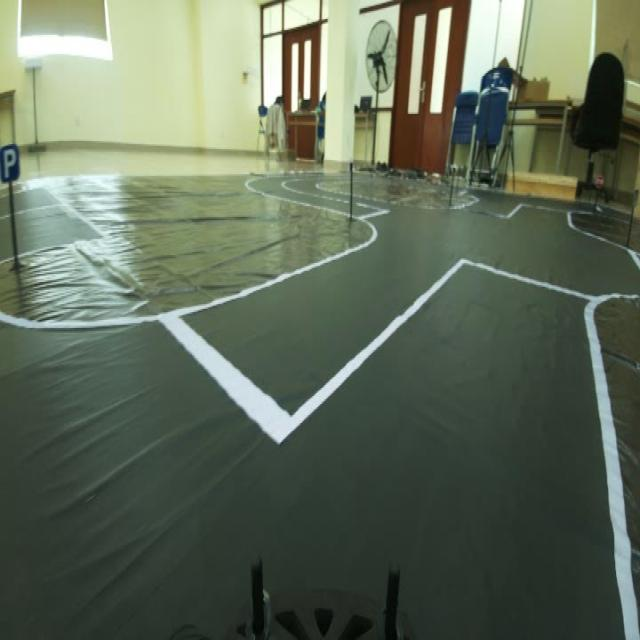parking: (0, 137, 21, 184)
